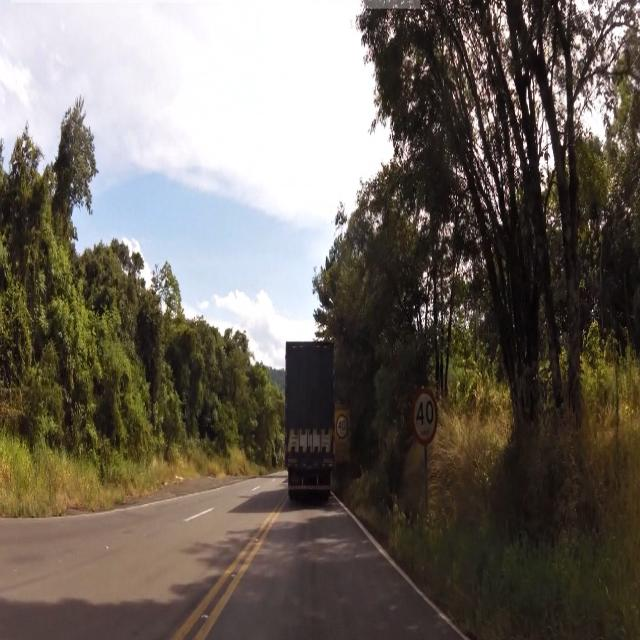R-19: (412, 381, 442, 449), (337, 414, 348, 438)
